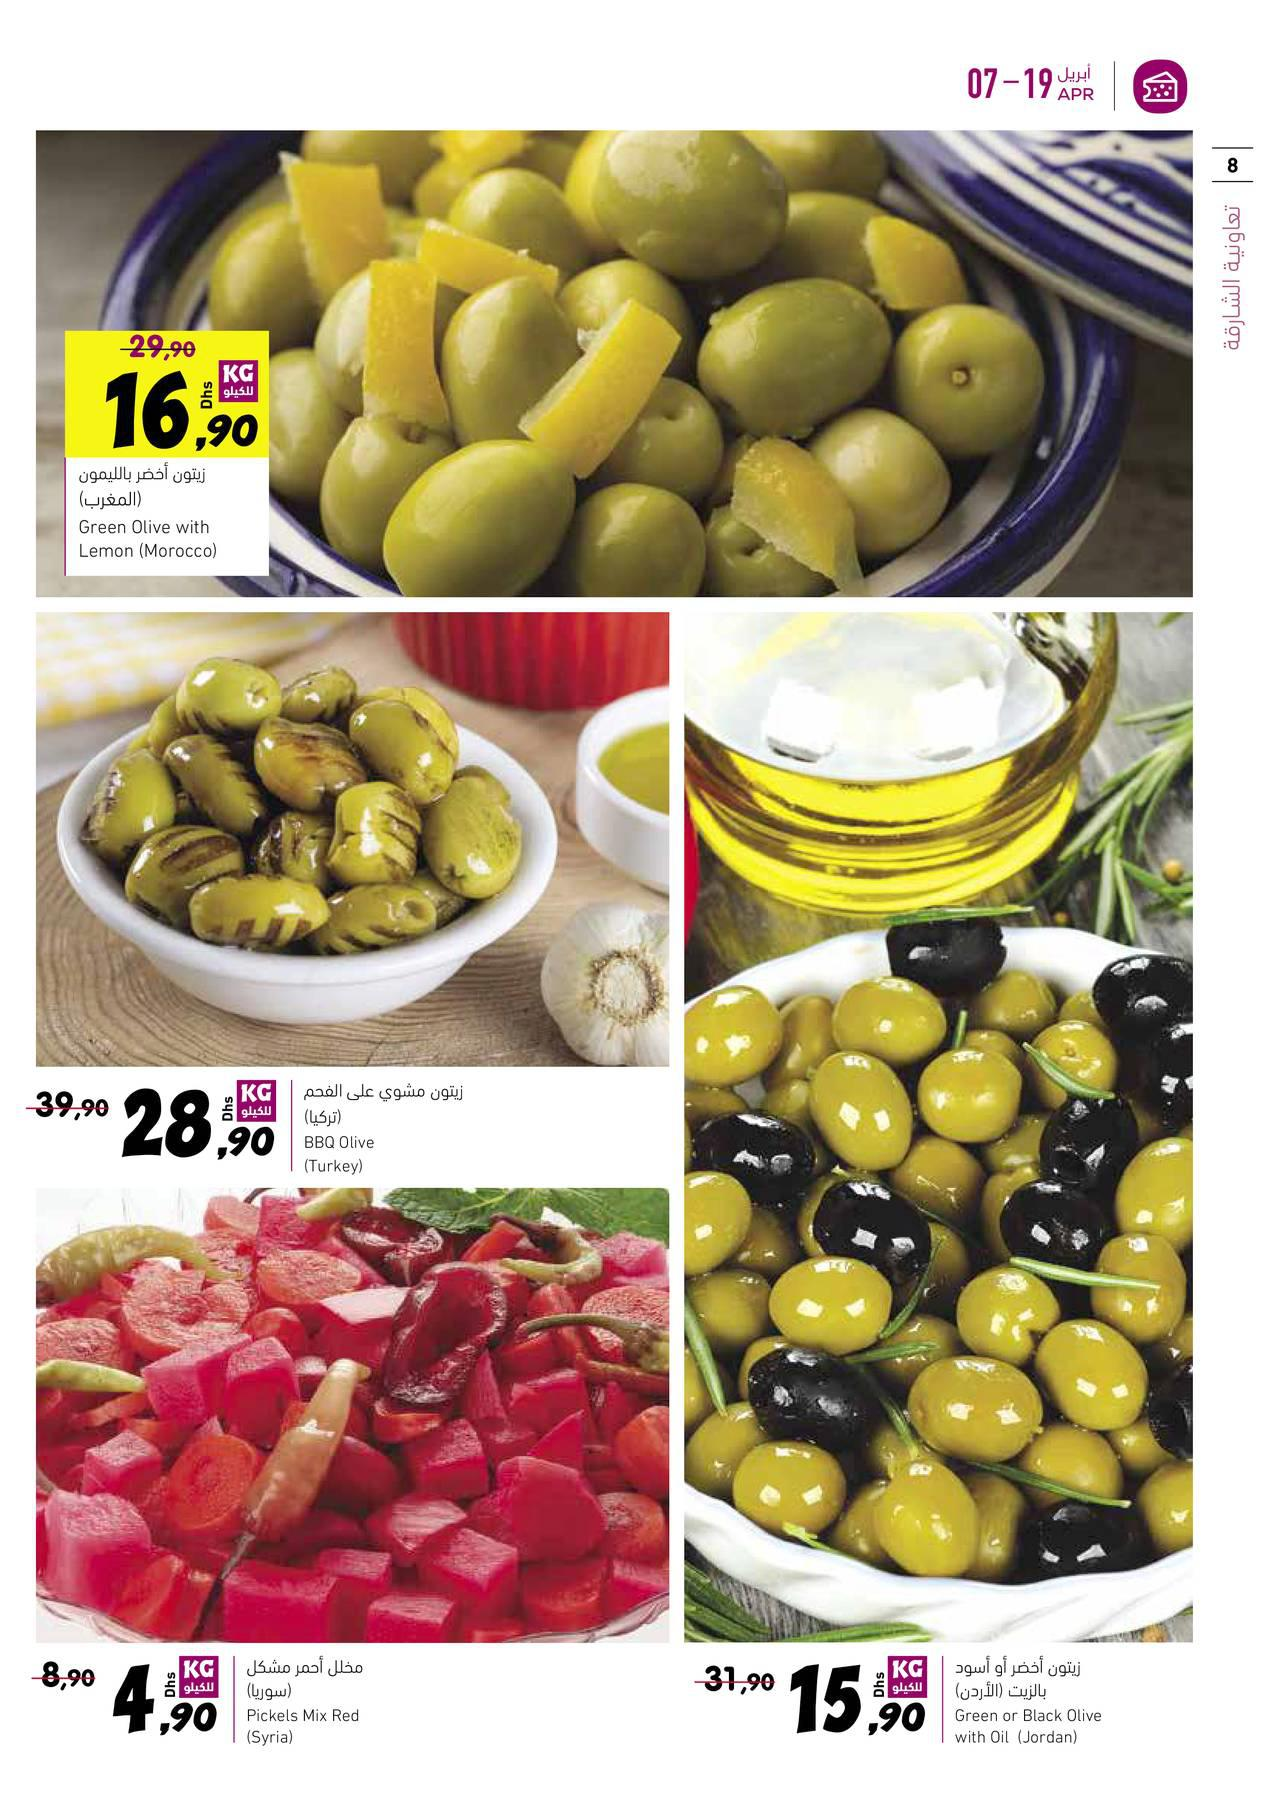text: (70, 460, 247, 570), (298, 1074, 475, 1182), (949, 1653, 1110, 1750), (238, 1650, 387, 1752)
